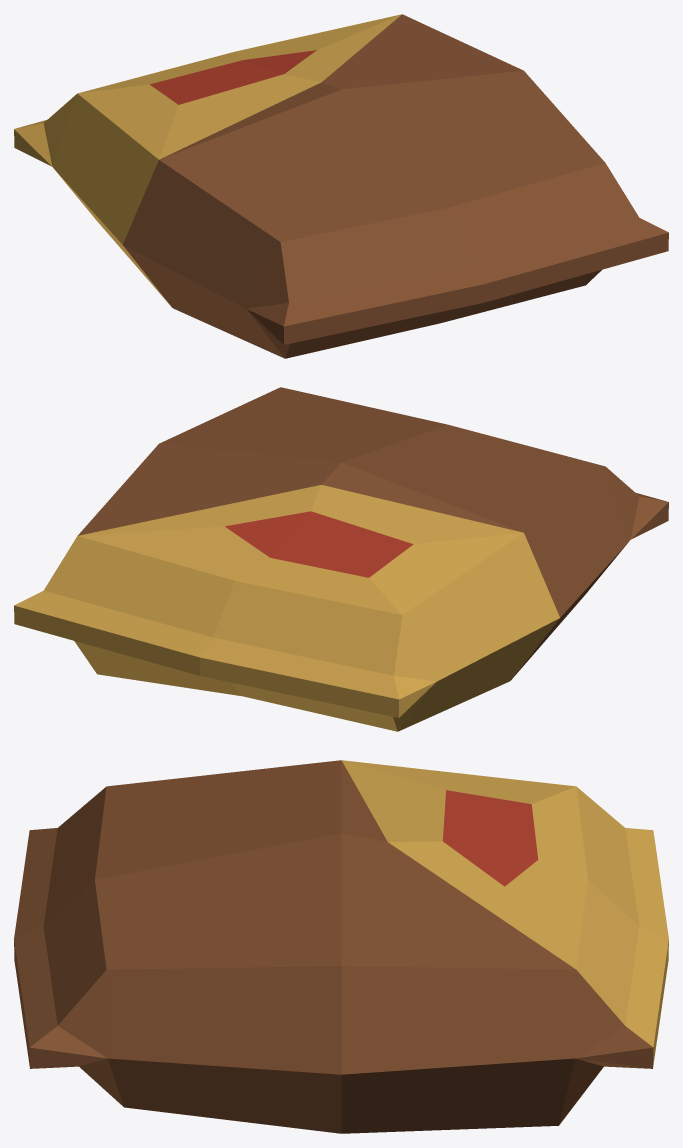
File: SM_Prop_Snack_01.obj
3 renders of one model, top to bottom at view 1: azimuth 30°, elevation 25°; view 2: azimuth 150°, elevation 25°; view 3: azimuth 270°, elevation 25°, orthographic. The views are drawn at different scales.
Visible parts, largest first — view 1: SM_Prop_Snack_01_M_PolygonOffice_01_A; view 2: SM_Prop_Snack_01_M_PolygonOffice_01_A; view 3: SM_Prop_Snack_01_M_PolygonOffice_01_A.
Boxes of the visible parts, <box> form: SM_Prop_Snack_01_M_PolygonOffice_01_A: <box>14,14,668,358</box>; SM_Prop_Snack_01_M_PolygonOffice_01_A: <box>14,387,668,731</box>; SM_Prop_Snack_01_M_PolygonOffice_01_A: <box>14,760,668,1133</box>.
Bounding box in the file's own units: 0.3061 × 0.1364 × 0.3433.
1 material, 1 textured.
